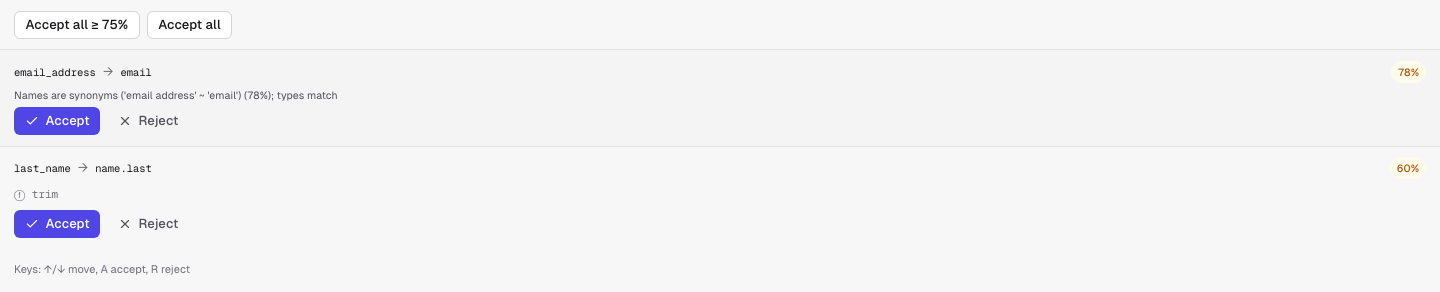
Test: SuggestionReview › AC4: accept/reject update store and stats
The image size is (1440, 292).
Click the button with aria-label "Accept suggestion for email_address" at {"x": 57, "y": 121}, box [14, 107, 100, 135]
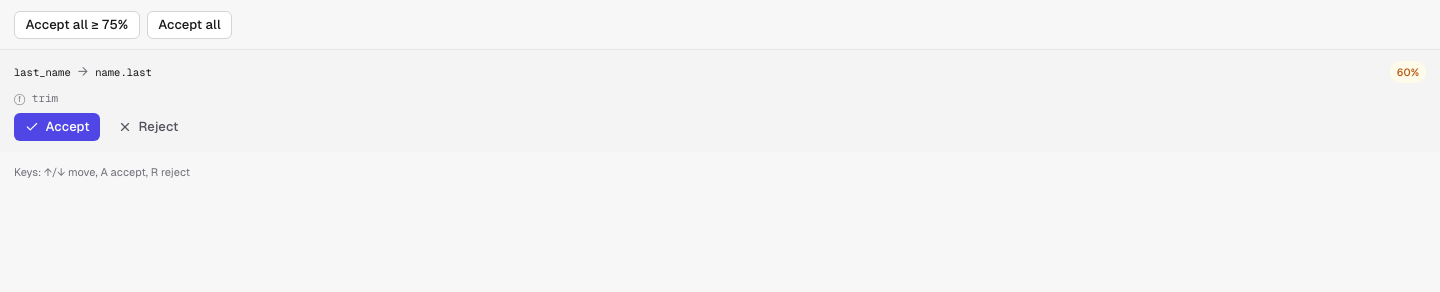
Click the button with aria-label "Reject suggestion for last_name" at {"x": 148, "y": 127}, box [107, 113, 189, 141]
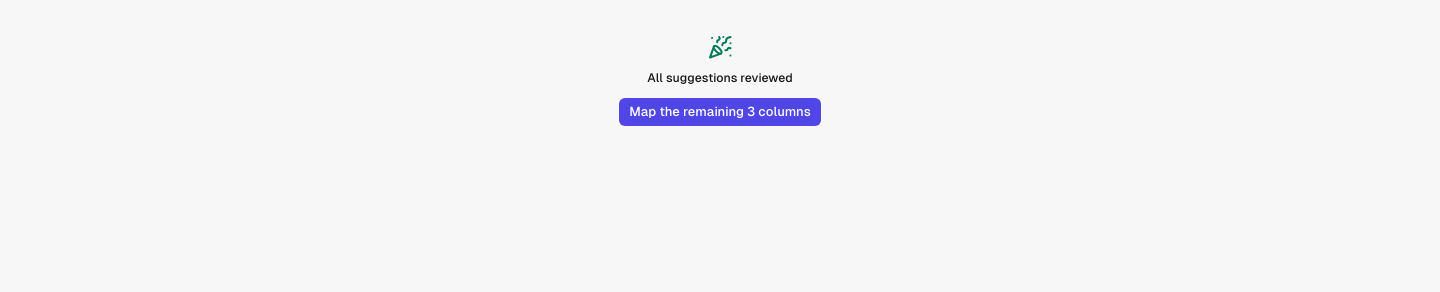
Check: the text "All suggestions reviewed" is shown, box [647, 70, 793, 88]
